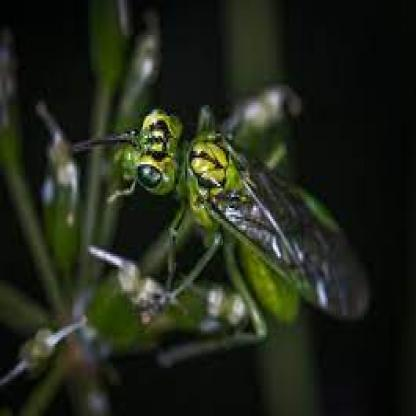sawfly: (106, 96, 374, 332)
